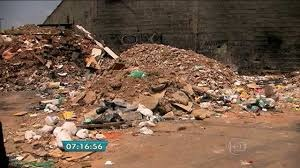rubble: (103, 41, 248, 104), (38, 72, 101, 148)
